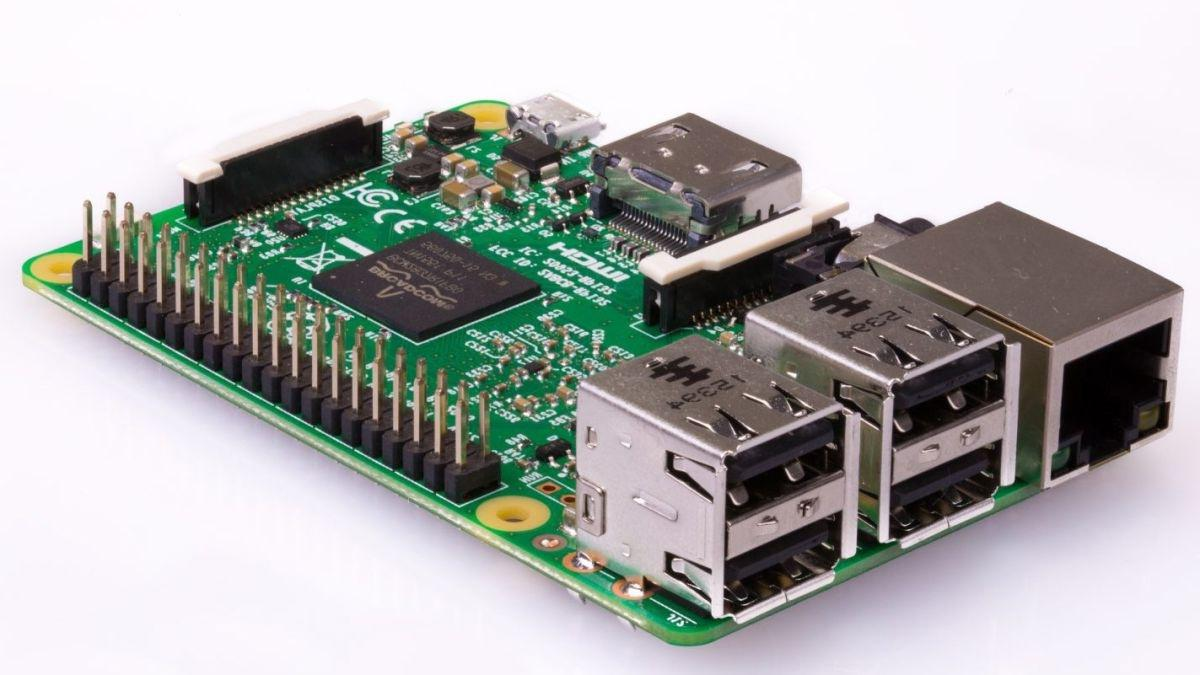bchi: (320, 229, 539, 343)
ethernet: (880, 203, 1177, 485)
gpio: (73, 192, 510, 502)
usb: (569, 331, 865, 619), (752, 267, 1019, 546)
